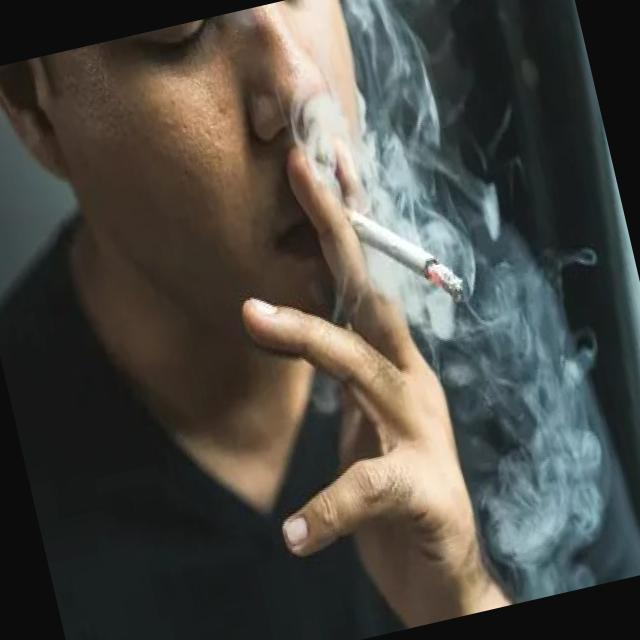cigarette: (333, 172, 472, 326)
